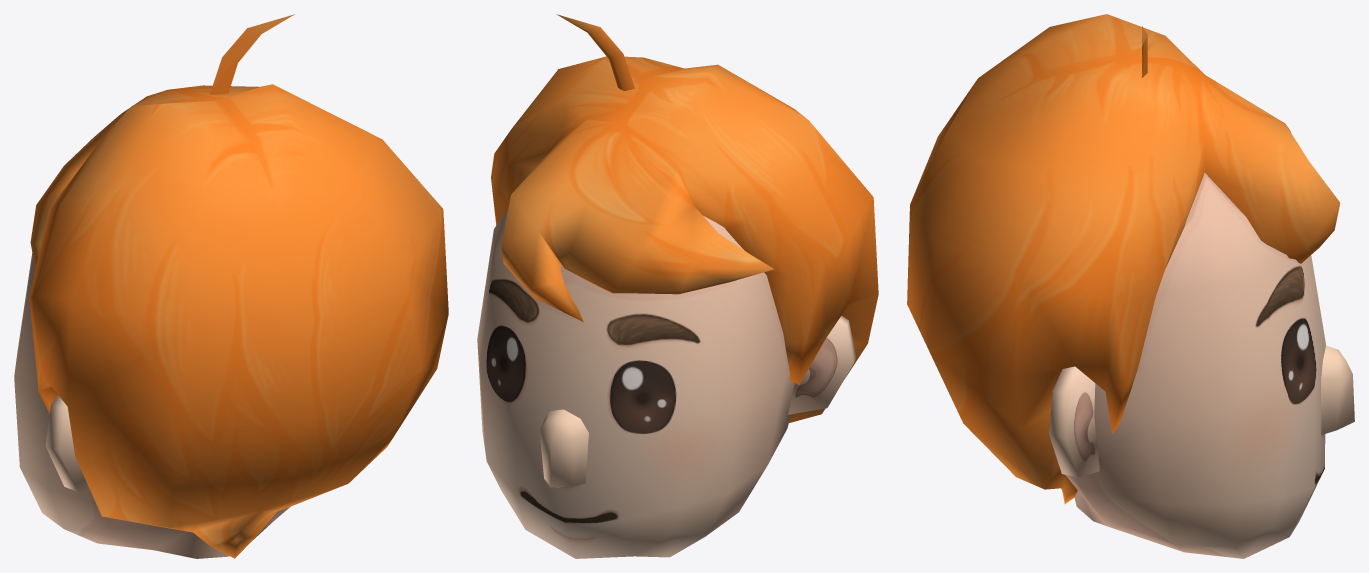
File: curious_boy_red_head.glb
3 views of the same model, side by side, from view 1: azimuth 30°, elevation 25°; view 2: azimuth 150°, elevation 25°; view 3: azimuth 270°, elevation 25° (orthographic). The views are drawn at different scales.
Parts seen in each view (by area): view 1: head; view 2: head; view 3: head.
Part boxes in pixels (x1,y1,x2,y2): head: (14, 14, 448, 558); head: (477, 14, 878, 558); head: (907, 14, 1354, 558).
Bounding box in the file's own units: 0.3505 × 0.4571 × 0.3464.
Materials: 2 (1 with a texture image).
